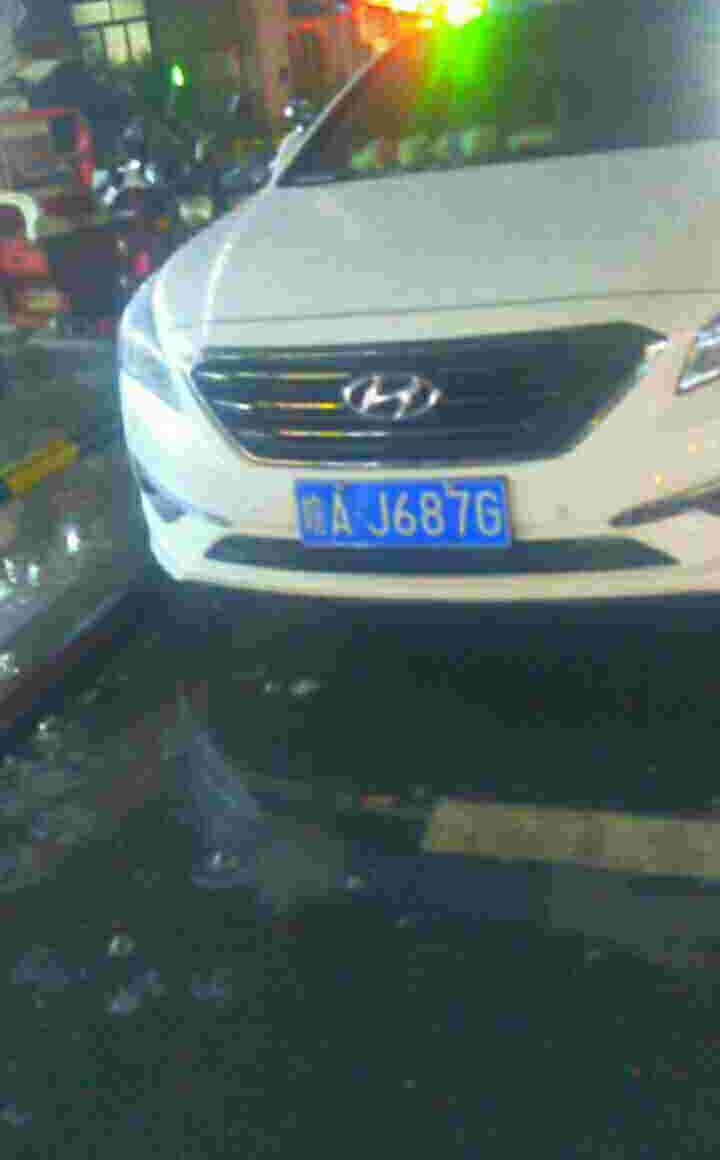license_plate: (307, 478, 505, 551)
